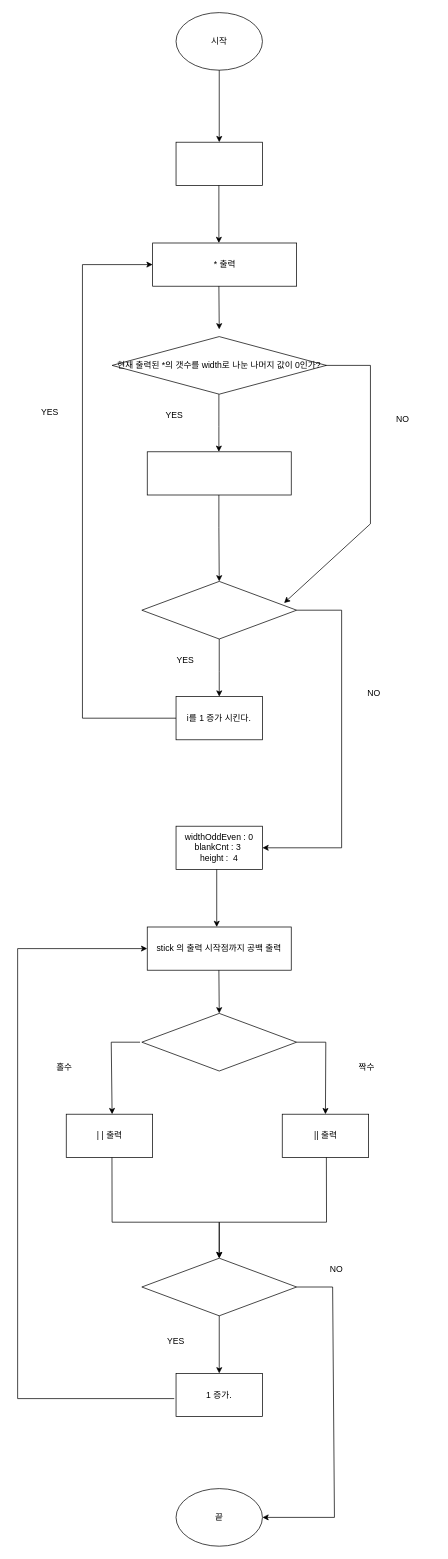
The diagram is 448 pixels wide and 1559 high, and some of its shapes have lost their labels. Each missing label, with the centre of its shape:
height보다 아직 작은가?: (x=219, y=1286)
icecream의 넓이가 홀수인가? 짝수인가?: (x=219, y=1042)
i가 totalCnt보다 같거나 작은가?: (x=219, y=610)
widthIcecream : 8 height : 7 totalCnt:56 i : 1: (x=218, y=163)
다음행으로 출력을 바꾼다.: (x=219, y=473)
